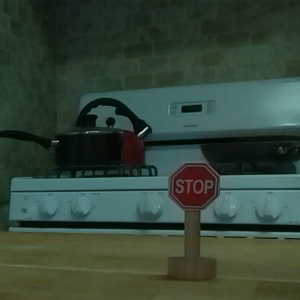stop sign: (165, 160, 222, 279)
